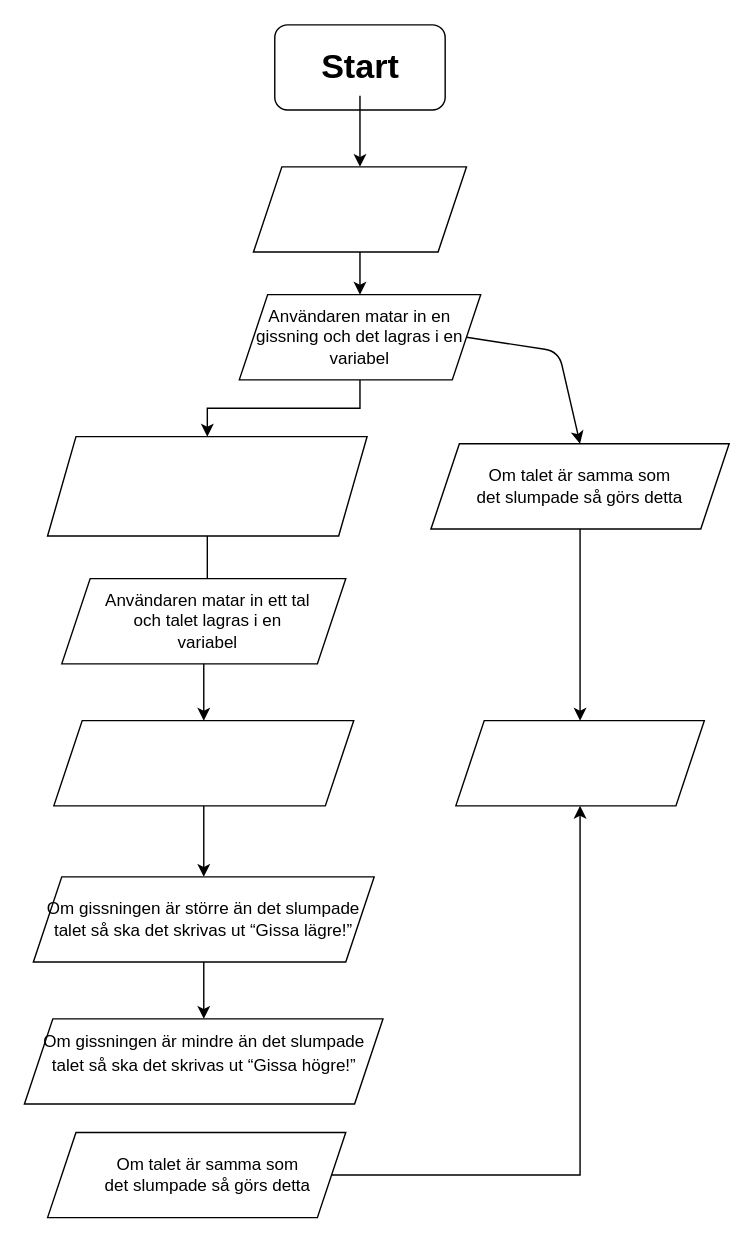
Image size: 755x1243. Some labels were removed from this diagram. Each missing label, with the centre of its shape:
Datorn slumpar ett tal mellan 1 och 100 och lagrar det i en variabel: point 359,208
Medans dem 2 variablarna inte är lika stora så ska detta repeteras: point 206,485
Skriv ut rätt svar och antal gissningar: point 579,762
Variabeln som håller koll på antal gissningar ökar med 1: point 203,762
